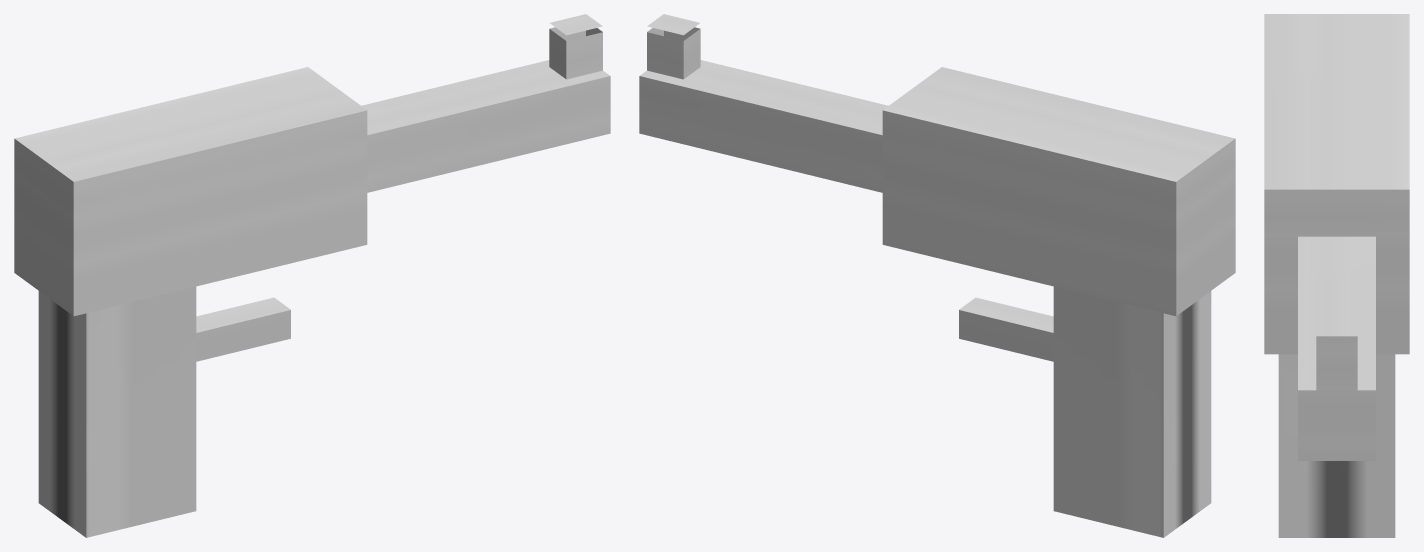
Rendered from revolver.obj.
The picture shows the model from 3 angles, left to right: view 1: azimuth 30°, elevation 25°; view 2: azimuth 150°, elevation 25°; view 3: azimuth 270°, elevation 25°; orthographic projection. The views are drawn at different scales.
Parts seen in each view (by area): view 1: revolver; view 2: revolver; view 3: revolver.
Part boxes in pixels (x1,y1,x2,y2): revolver: (14, 14, 610, 537); revolver: (639, 14, 1235, 537); revolver: (1264, 14, 1409, 537).
Bounding box in the file's own units: 0.3 × 0.193 × 0.056.
